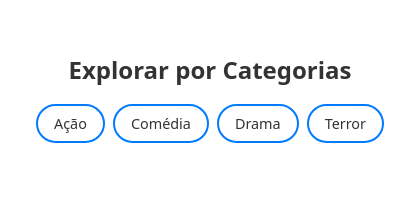
Test: CategoryList › Genre Selection and Movie Loading › should show empty state when no movies found
The width and height of the screenshot is (420, 205).
Click the button "Terror". click: (345, 124)
box: [307,104,384,144]
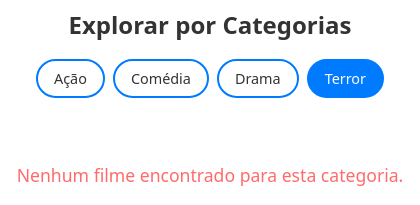
Now the text "Nenhum filme encontrado para esta categoria." is shown, box [17,162,403,189]
